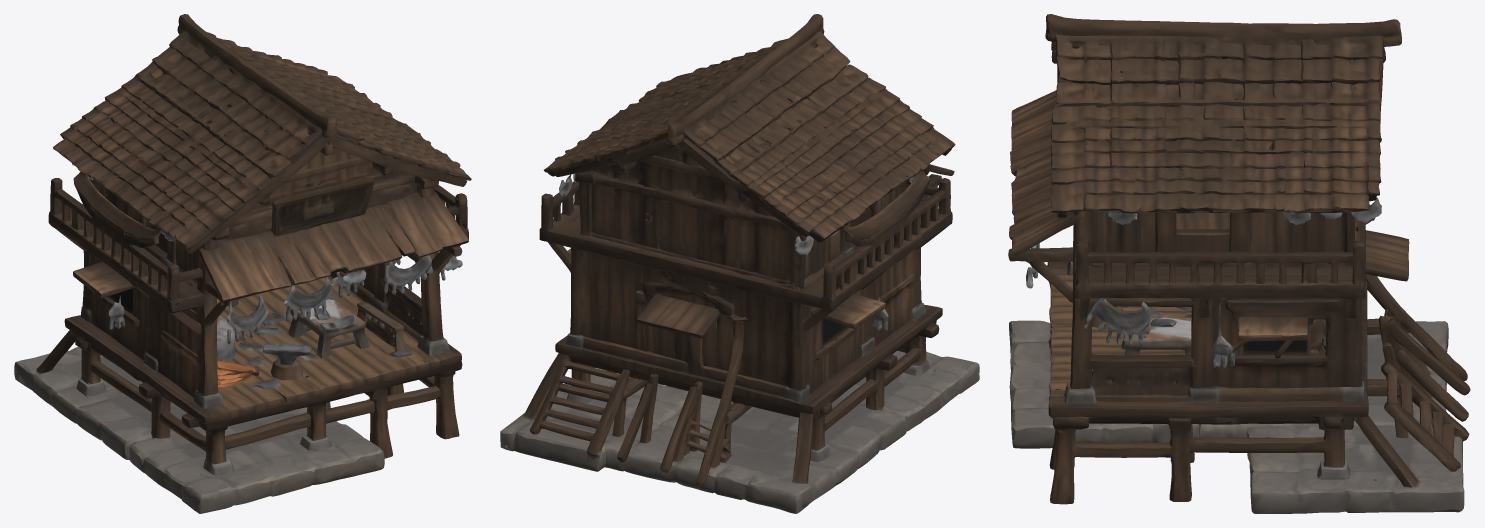
The model's file is silver-workshop.optimized.glb.
3 renders of one model, left to right at view 1: azimuth 30°, elevation 25°; view 2: azimuth 150°, elevation 25°; view 3: azimuth 270°, elevation 25°, orthographic. The views are drawn at different scales.
Parts seen in each view (by area): view 1: geometry_0; view 2: geometry_0; view 3: geometry_0.
Boxes of the visible parts, box(x1,y1,x2,y2) form: geometry_0: box(14, 14, 471, 513); geometry_0: box(500, 14, 979, 513); geometry_0: box(1008, 14, 1470, 513).
Size of the model in its own units: 4.5 by 5.06 by 5.06.
1 material, 1 textured.
